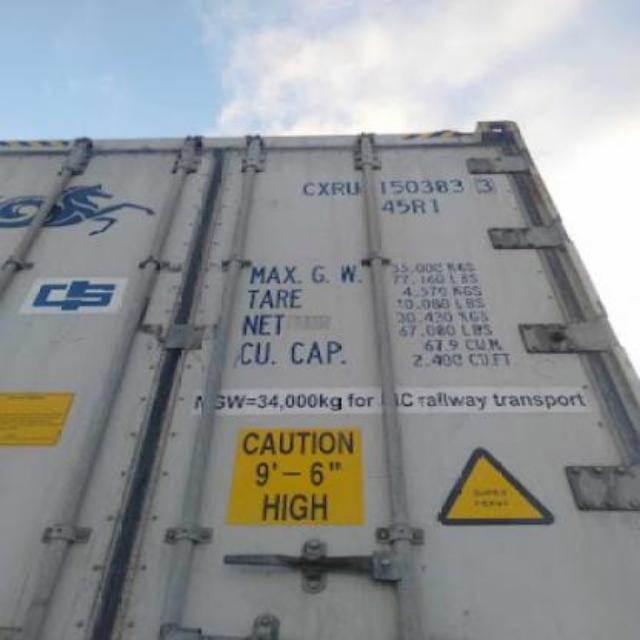0: (401, 179, 422, 197)
1: (378, 178, 388, 198)
3: (448, 178, 466, 194), (478, 180, 494, 194), (421, 180, 434, 194)
5: (392, 180, 406, 196)
8: (436, 180, 449, 194)
C: (302, 182, 316, 196)
R: (332, 182, 348, 196)
U: (346, 180, 362, 196)
X: (316, 182, 332, 194)
